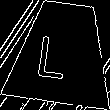L_N: (43, 26, 81, 80)
